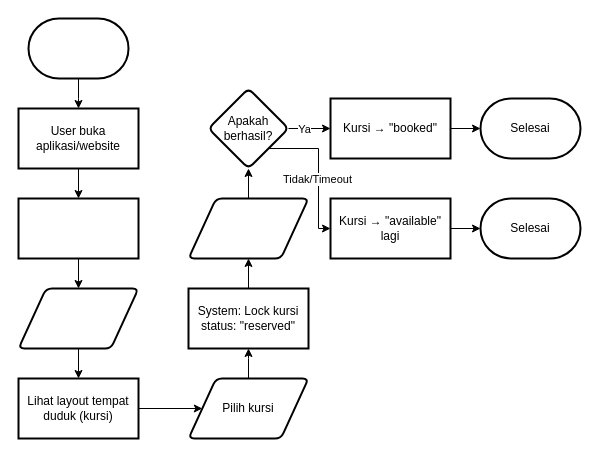
The diagram is 598 pixels wide and 456 high, and some of its shapes have lost their labels. The shapes that lost their labels are listed below. From the top down, each one's box as (x1, y1, x2, y2) in pixels, then its label:
(27, 17, 129, 79): Mulai
(17, 197, 139, 259): Lihat daftar film
(187, 197, 309, 259): Lakukan pembayaran
(17, 287, 139, 349): Pilih film dan jadwal tayang
